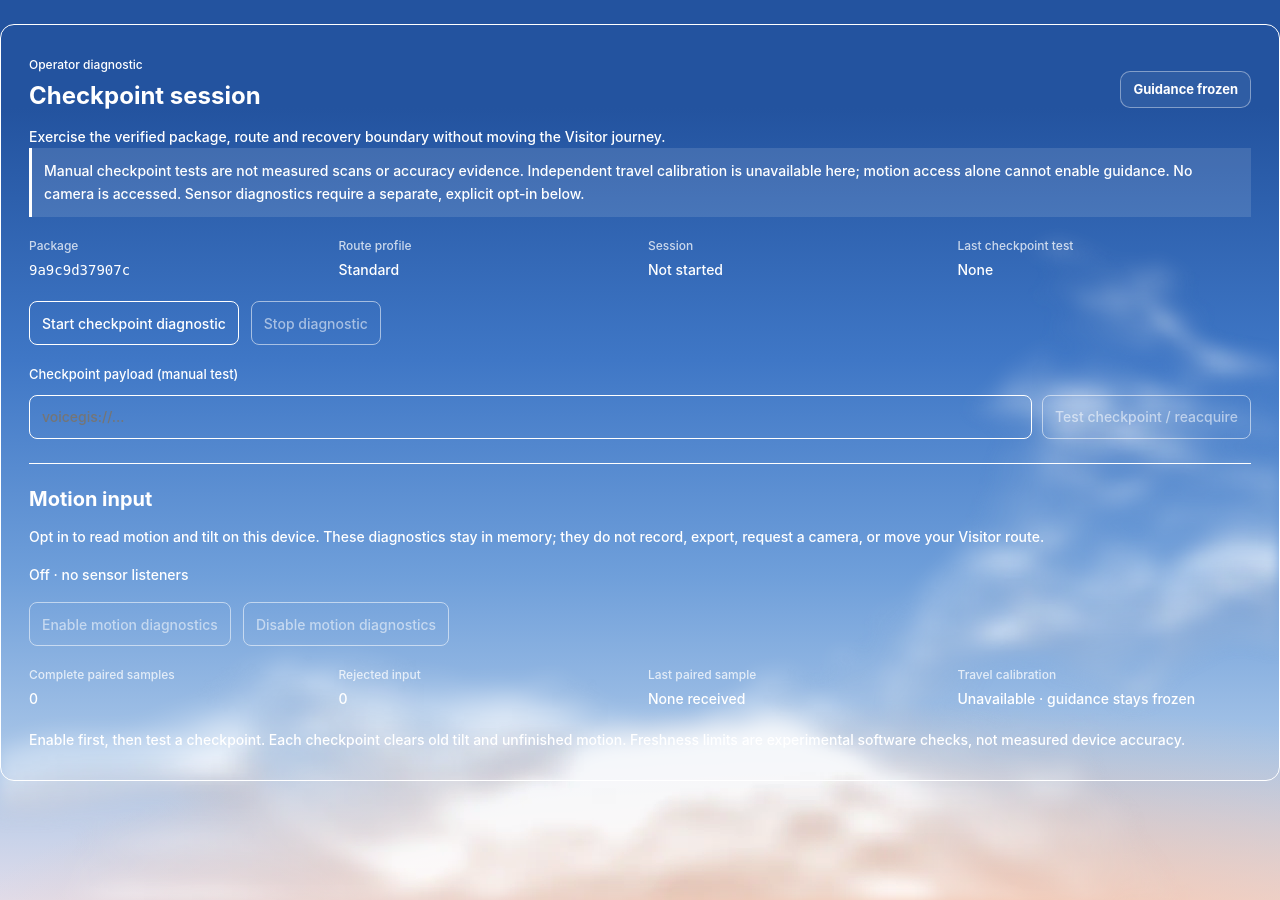
operator checkpoint session UI › refuses an unknown checkpoint without a location or guidance claim
Click the button "Start checkpoint diagnostic" at (134, 323), box [29,301,239,345]
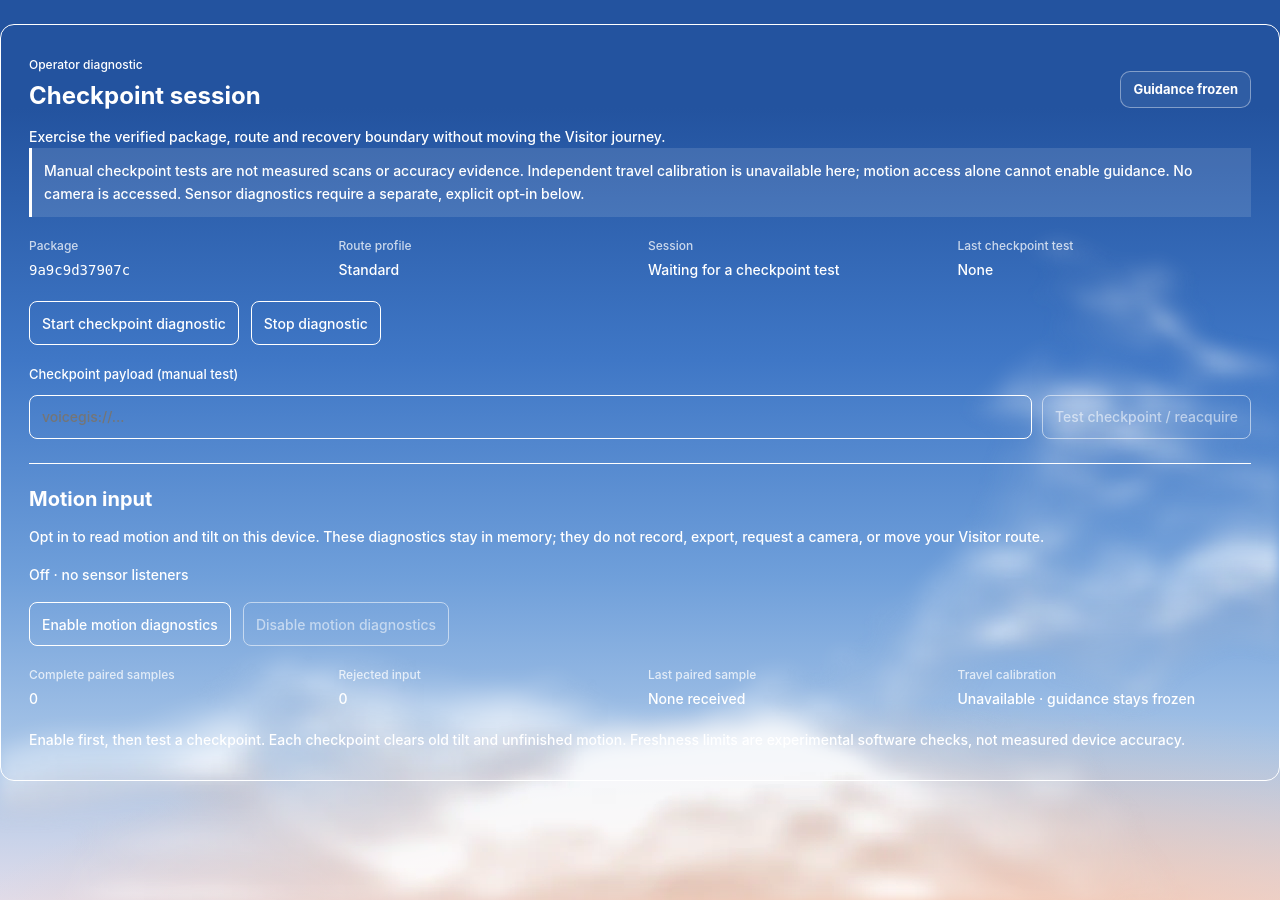
Type "foreign" into the field labelled "Checkpoint payload (manual test)" at (531, 417), box [29,395,1032,439]
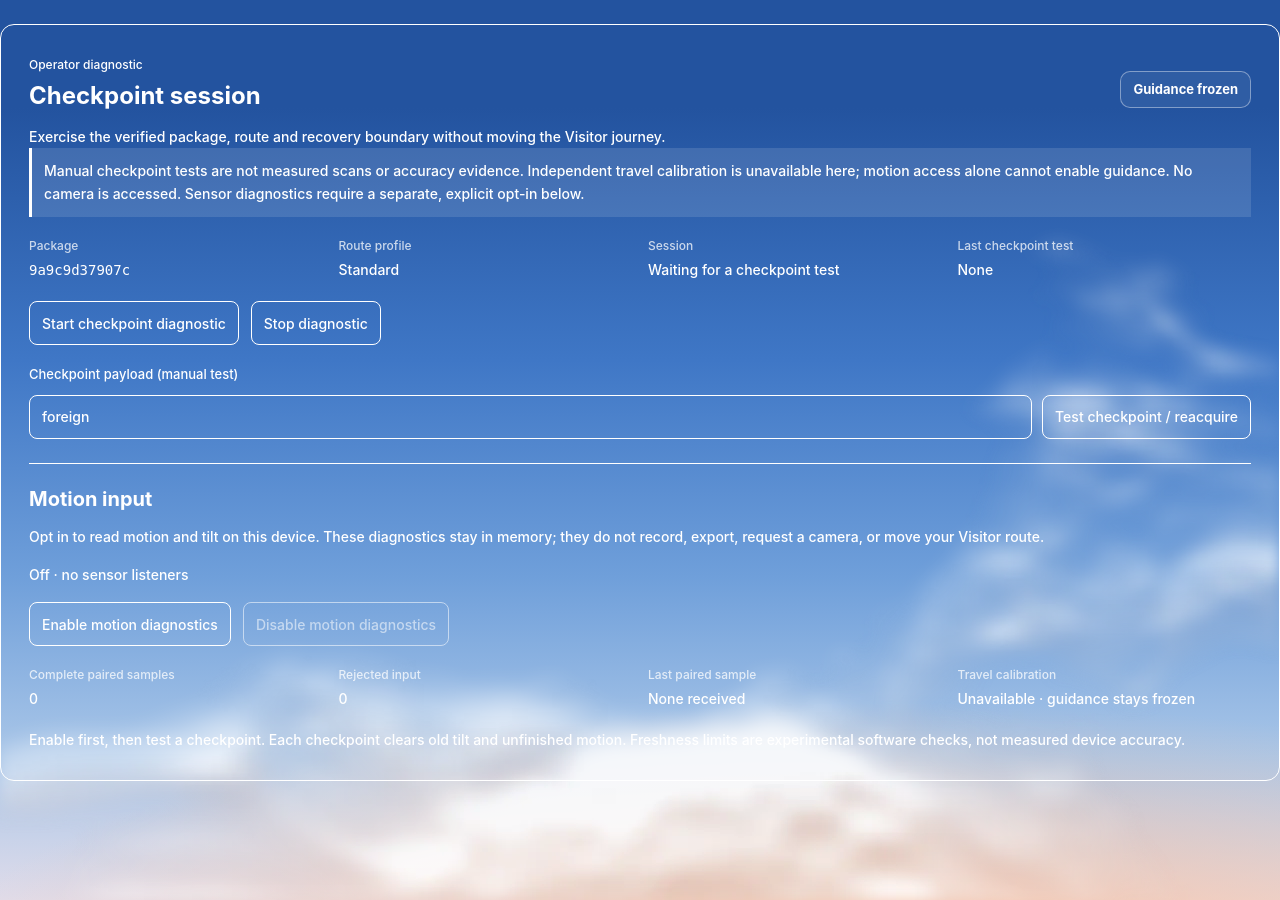
Click the button "Test checkpoint / reacquire" at (1147, 417), box [1042,395,1251,439]
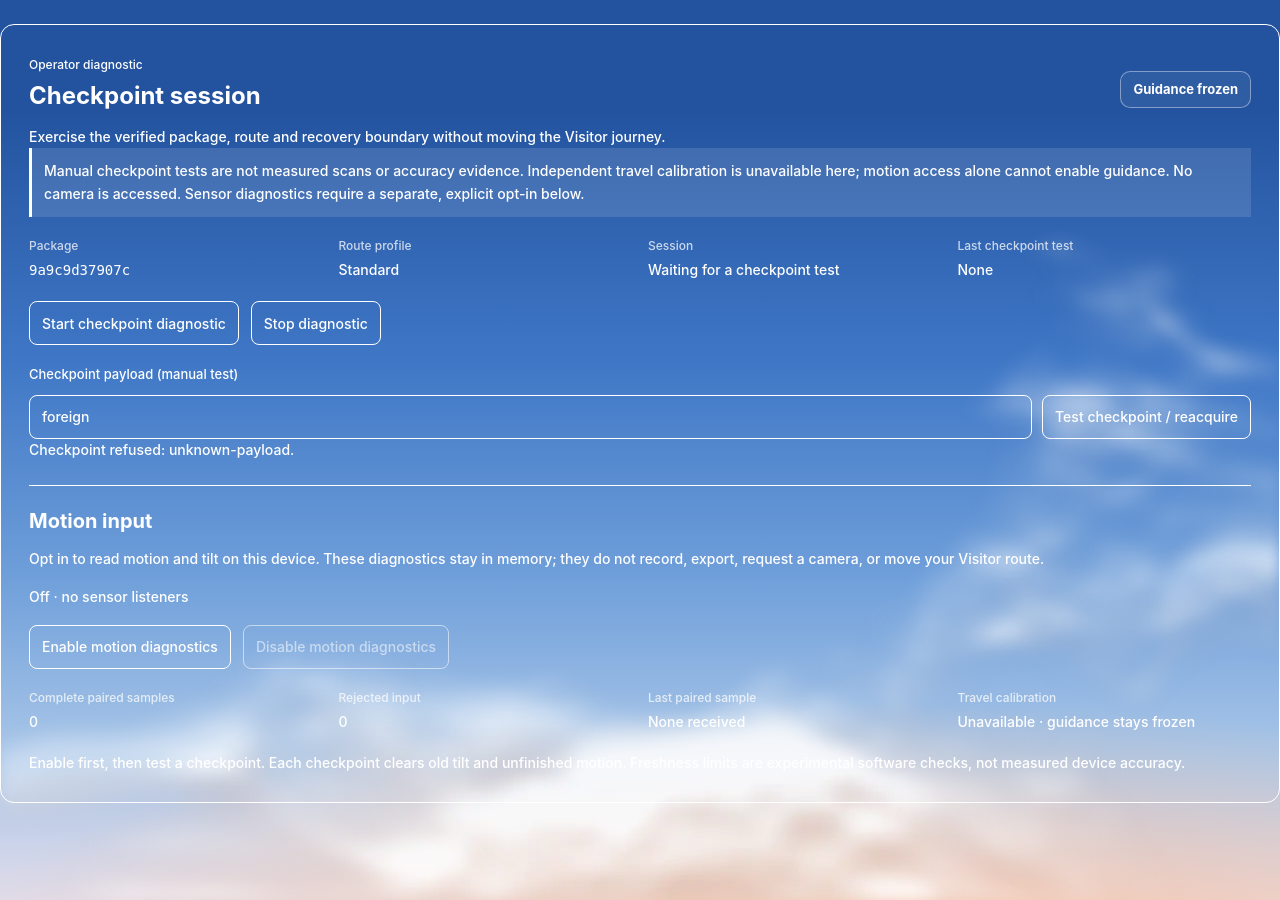
Expected: the text "None" is shown, [958,261,993,278]
Result: the message shows "Checkpoint refused" at [29,441,294,458]
